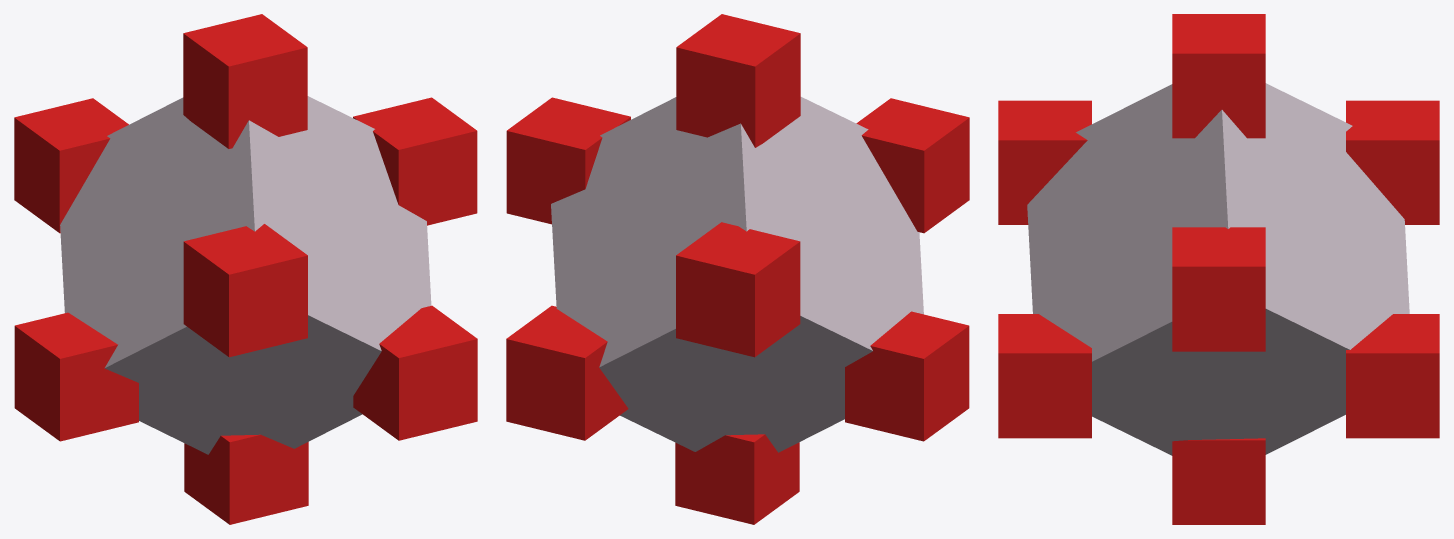
File: aluminium-oxide.glb
3 renders of one model, left to right at view 1: azimuth 30°, elevation 25°; view 2: azimuth 150°, elevation 25°; view 3: azimuth 270°, elevation 25°, orthographic. The views are drawn at different scales.
Parts seen in each view (by area): view 1: Cube.021; view 2: Cube.021; view 3: Cube.021.
Boxes of the visible parts, <box> form: Cube.021: <box>14,14,477,524</box>; Cube.021: <box>506,14,969,524</box>; Cube.021: <box>998,14,1439,524</box>.
Size of the model in its own units: 4.76 by 5 by 4.25.
Materials: 1 (1 with a texture image).
